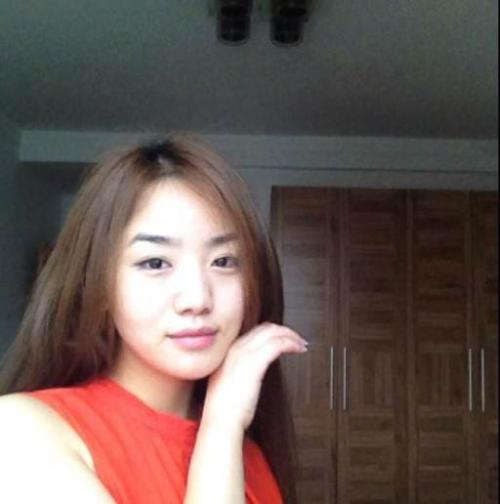no_mask: (72, 136, 257, 384)
